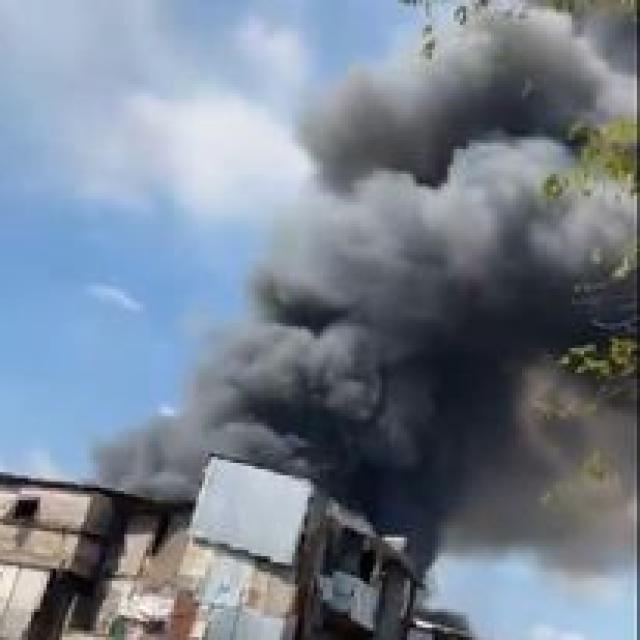Smoke: (327, 195, 640, 558), (374, 25, 640, 219), (231, 321, 451, 459)
